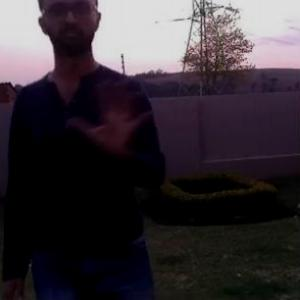follow_hand: (66, 70, 160, 160)
